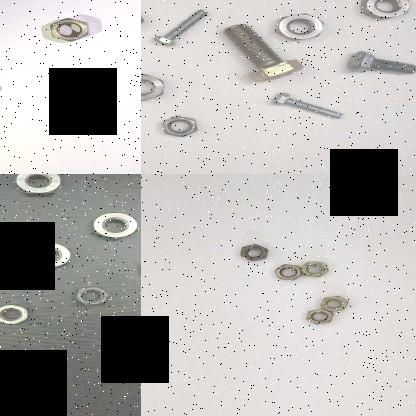Bolts: (219, 22, 303, 82), (269, 90, 351, 128), (348, 44, 416, 82)
NUTS: (13, 235, 84, 268), (268, 9, 328, 41), (88, 210, 140, 244), (152, 114, 210, 142), (7, 174, 64, 198), (358, 0, 416, 22), (46, 15, 95, 41), (141, 69, 174, 105), (72, 284, 116, 308), (0, 302, 35, 325), (318, 292, 350, 312), (302, 306, 334, 326), (238, 242, 272, 260), (299, 258, 331, 276), (272, 263, 304, 280), (141, 6, 152, 33), (131, 255, 141, 281)
